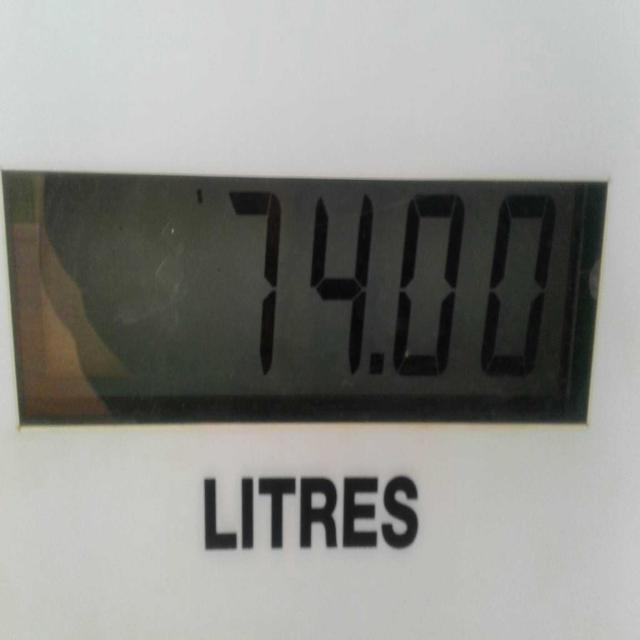.: (361, 337, 399, 399)
0: (384, 180, 468, 396), (477, 183, 564, 389)
4: (302, 193, 381, 386)
7: (210, 179, 294, 386)
